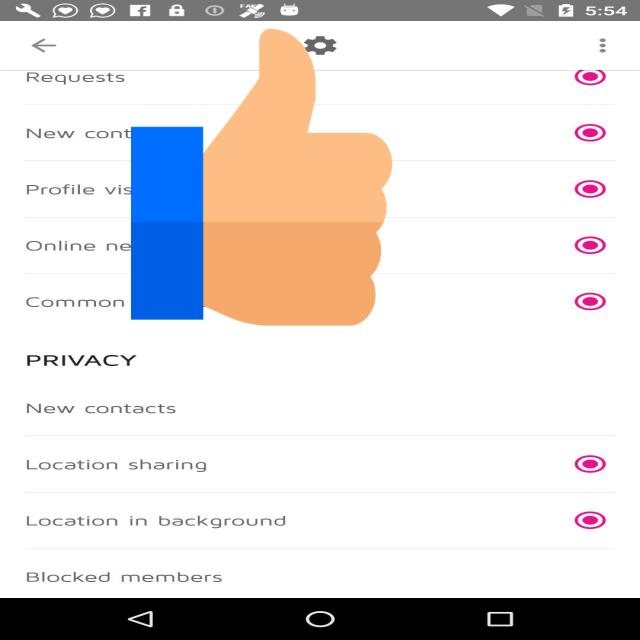privacy zuckering: (131, 21, 392, 333)
